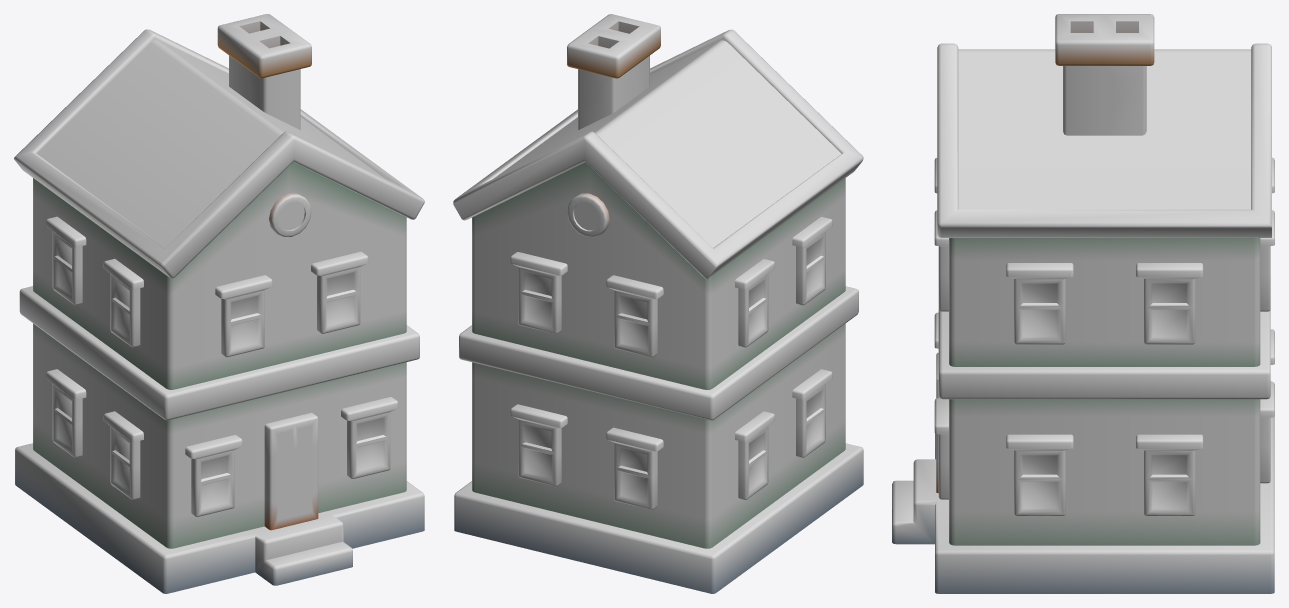
File: NF_Bld_House 26.fbx
3 renders of one model, left to right at view 1: azimuth 30°, elevation 25°; view 2: azimuth 150°, elevation 25°; view 3: azimuth 270°, elevation 25°, orthographic. The views are drawn at different scales.
Visible parts, largest first — view 1: House_26; view 2: House_26; view 3: House_26.
Boxes of the visible parts, x1=… form: House_26: x1=14, y1=14, x2=424, y2=593; House_26: x1=453, y1=14, x2=863, y2=593; House_26: x1=892, y1=14, x2=1274, y2=593.
Size of the model in its own units: 6.61 by 11.05 by 7.38.
